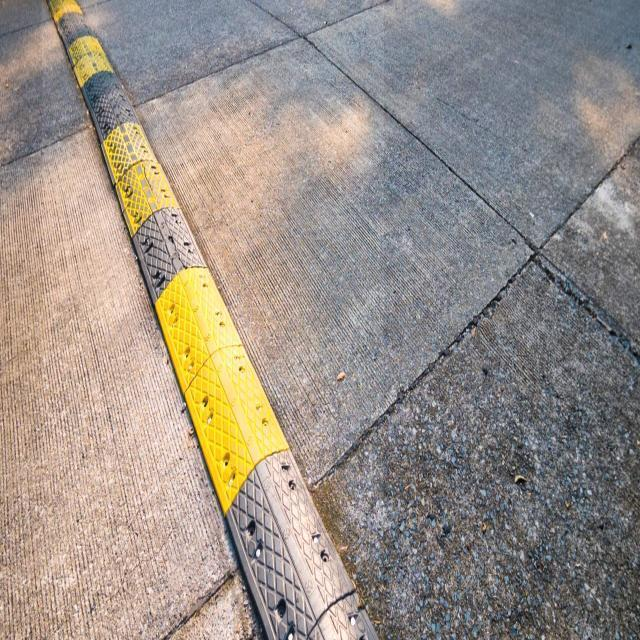Marked Bump: (37, 6, 383, 626)
